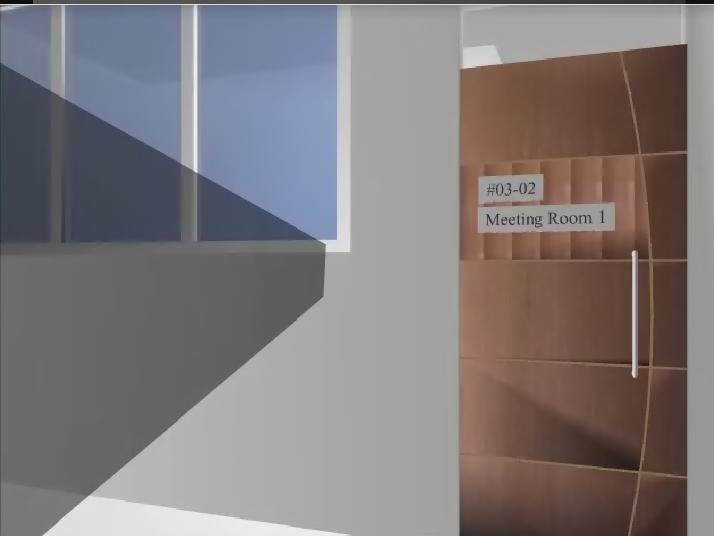door: (458, 42, 687, 536)
